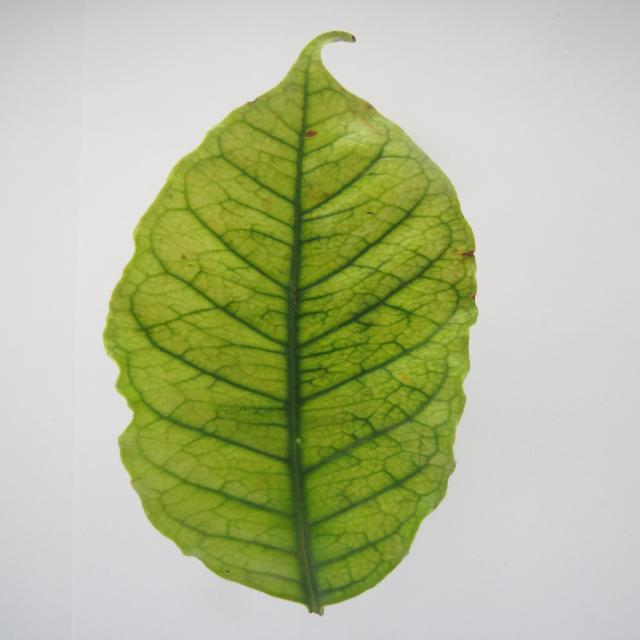DeficienciaNutricional-Magnesio: (105, 31, 477, 612)
